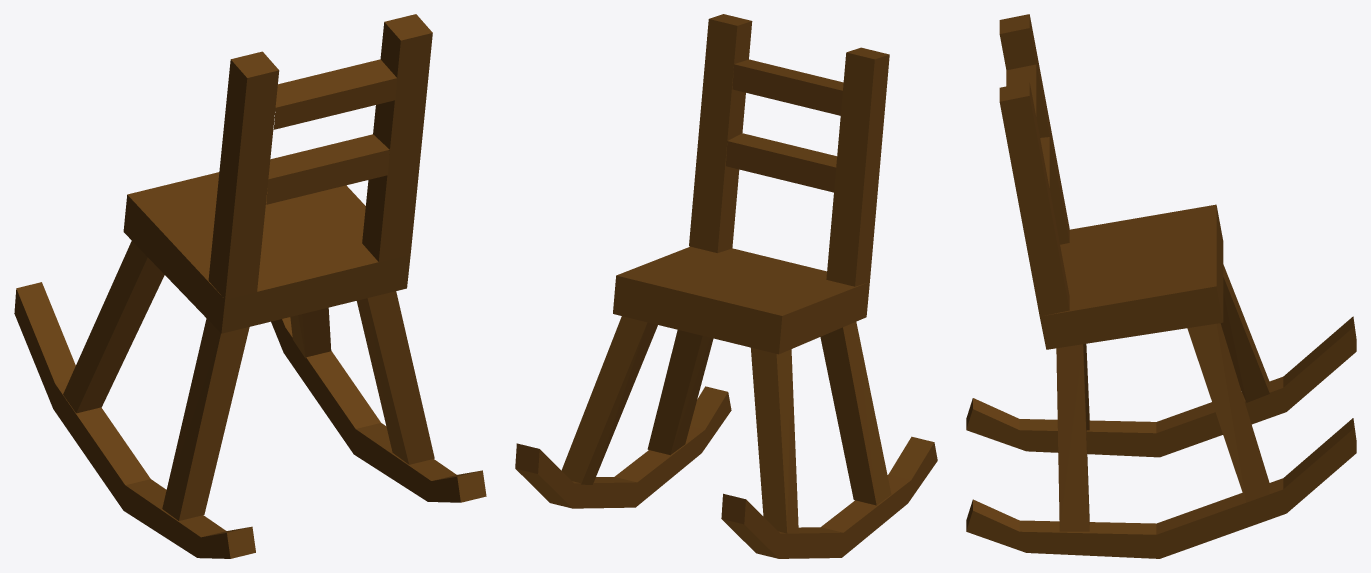
File: obj_rocking_chair_0.obj
3 renders of one model, left to right at view 1: azimuth 30°, elevation 25°; view 2: azimuth 150°, elevation 25°; view 3: azimuth 270°, elevation 25°, orthographic. The views are drawn at different scales.
Bounding box in the file's own units: 0.625 × 1.16 × 0.9141.
